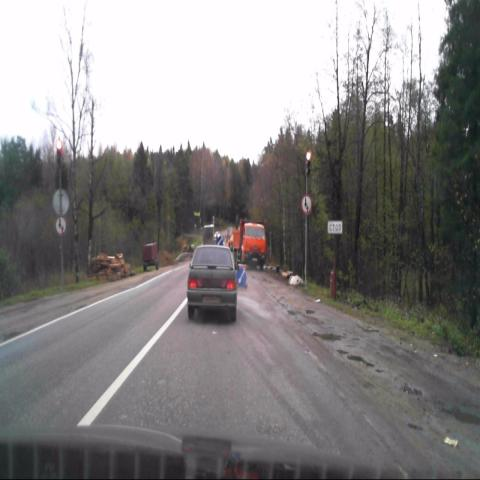2_6: (54, 215, 67, 235), (300, 194, 312, 215)
